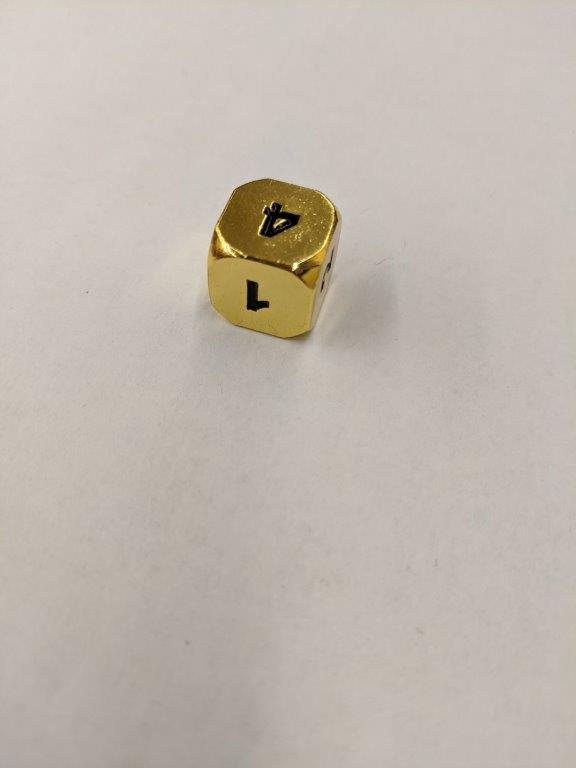d6-4: (206, 177, 342, 337)
